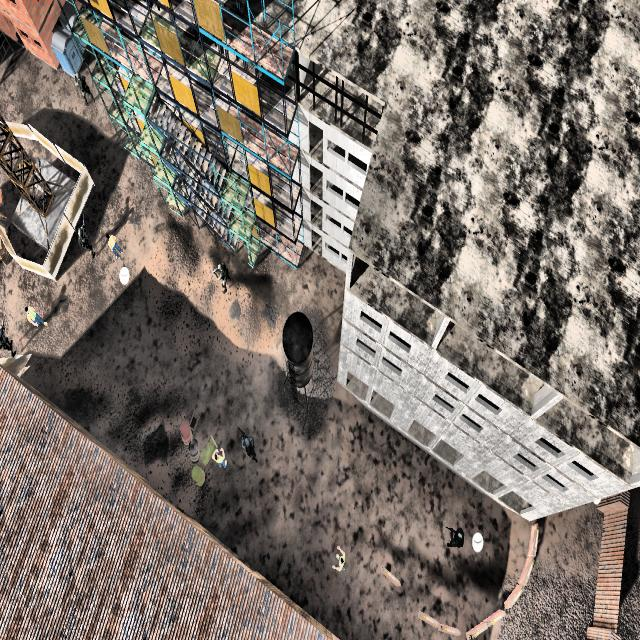bad: (237, 414, 260, 473), (209, 251, 234, 301), (77, 212, 96, 267), (444, 517, 469, 555), (72, 60, 92, 106), (0, 311, 17, 362)
good: (21, 294, 48, 334), (328, 534, 348, 583), (105, 222, 124, 263), (209, 437, 229, 475)
